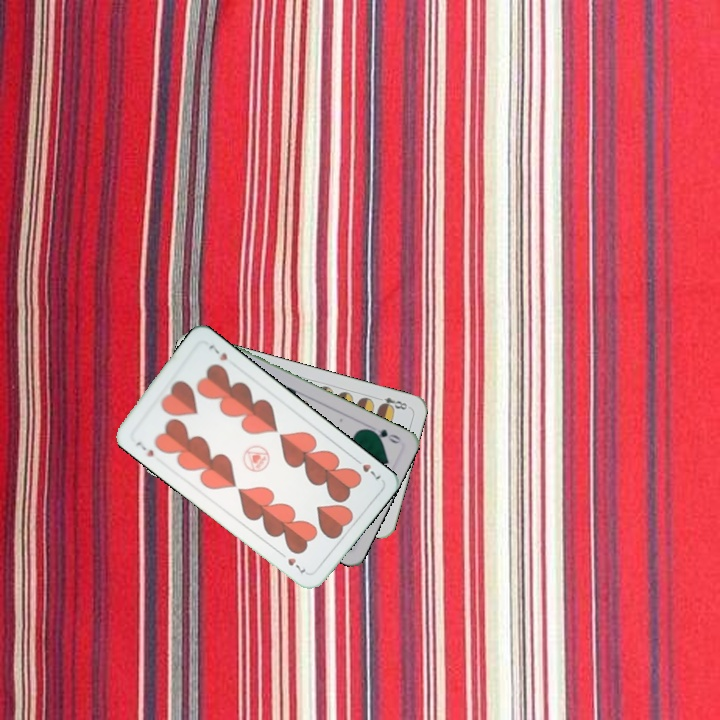E8: (376, 393, 412, 413)
GO: (364, 423, 403, 446)
H7: (349, 453, 384, 483), (131, 437, 156, 460)
